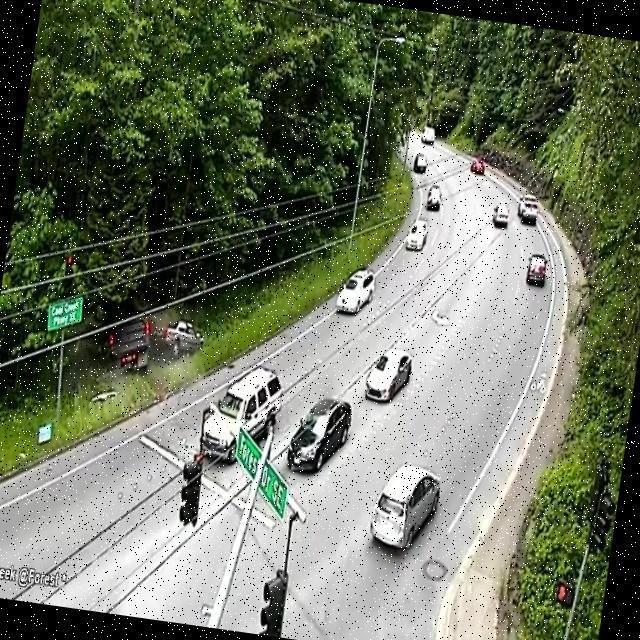accident: (92, 276, 215, 392)
